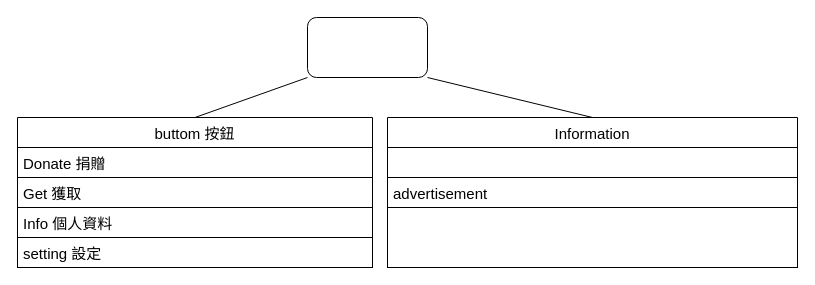
Some shapes in this 815 by 285 pixel diagram are drawn without their labels. The centre of each missing label's shape, as x and y in pixels:
About restaurant: point (592, 162)
Q&A like (how to get、how it works、how to donate) such as some useful instruction: point (592, 237)
用戶主頁: point (367, 47)
